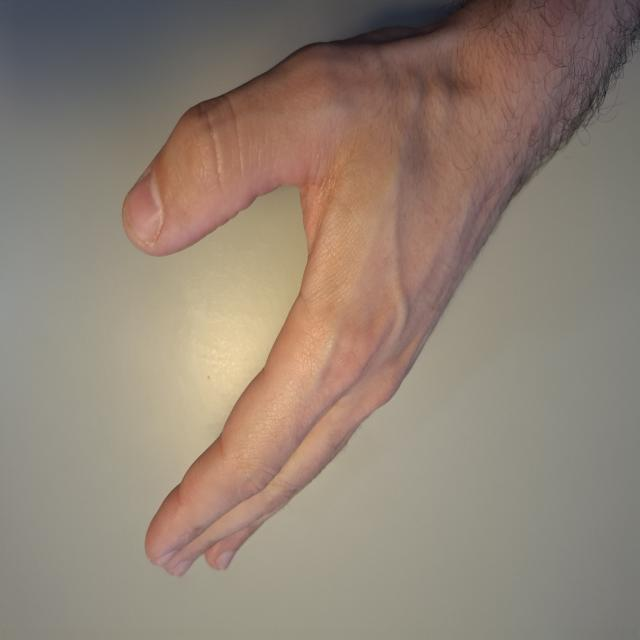glove_off: (120, 10, 552, 581)
